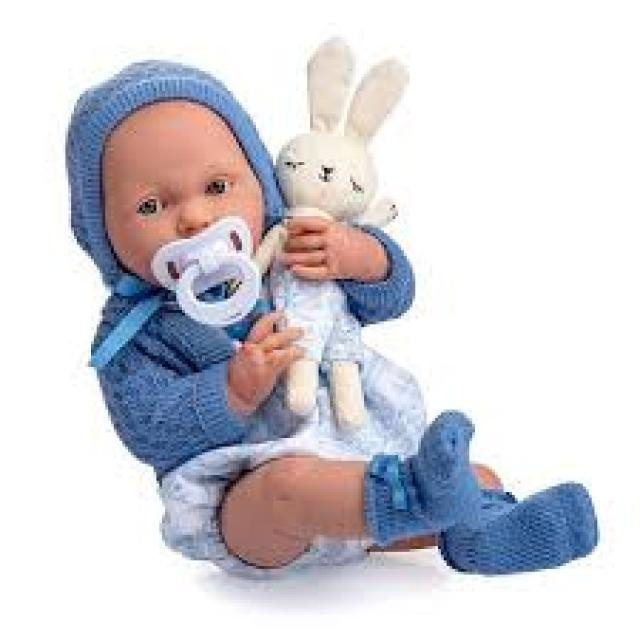soft-toy: (277, 41, 410, 227), (256, 225, 366, 430)
